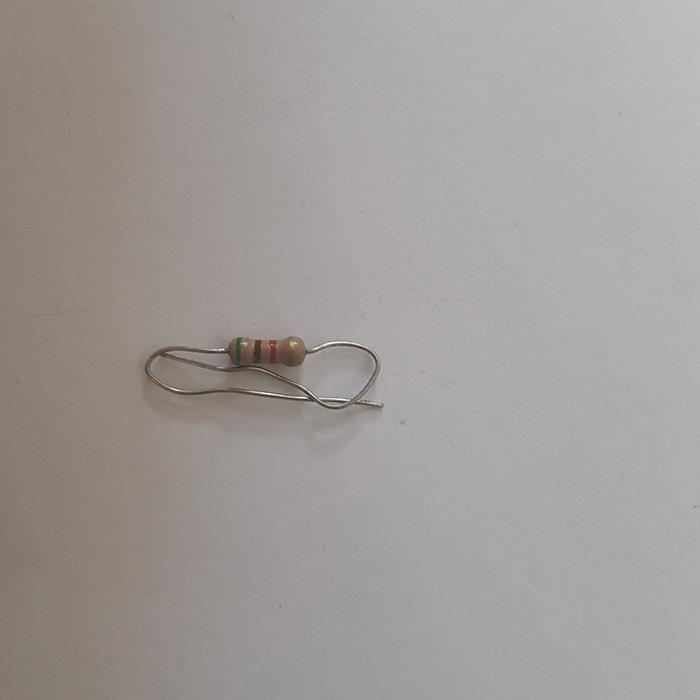resistor: (227, 335, 306, 367)
